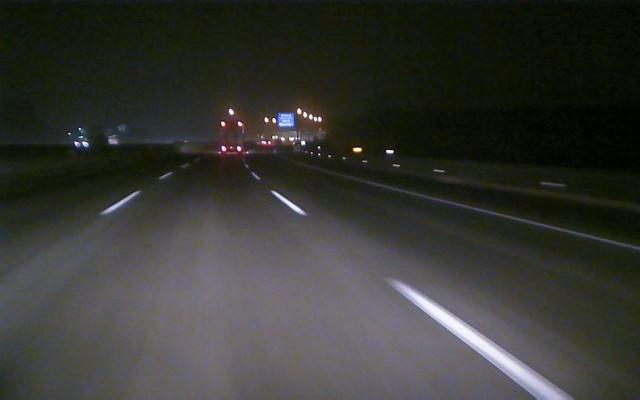lane: (267, 188, 573, 398), (373, 181, 640, 251), (100, 172, 172, 214)
